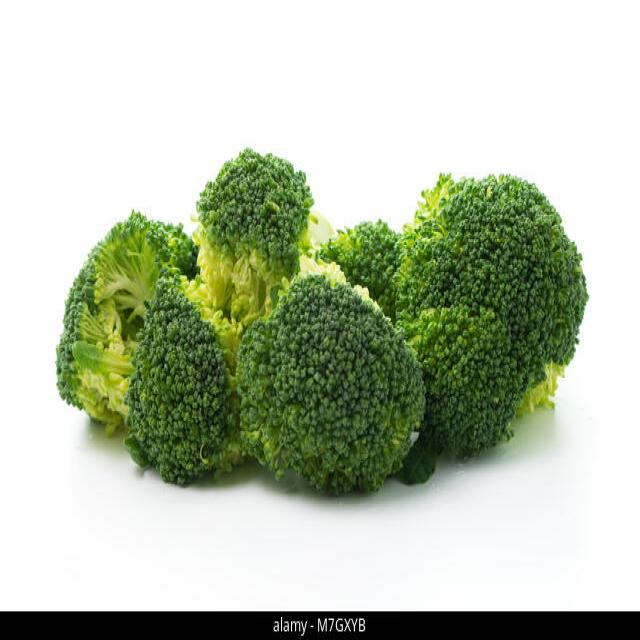broccoli: (53, 146, 589, 497), (234, 275, 428, 497)
